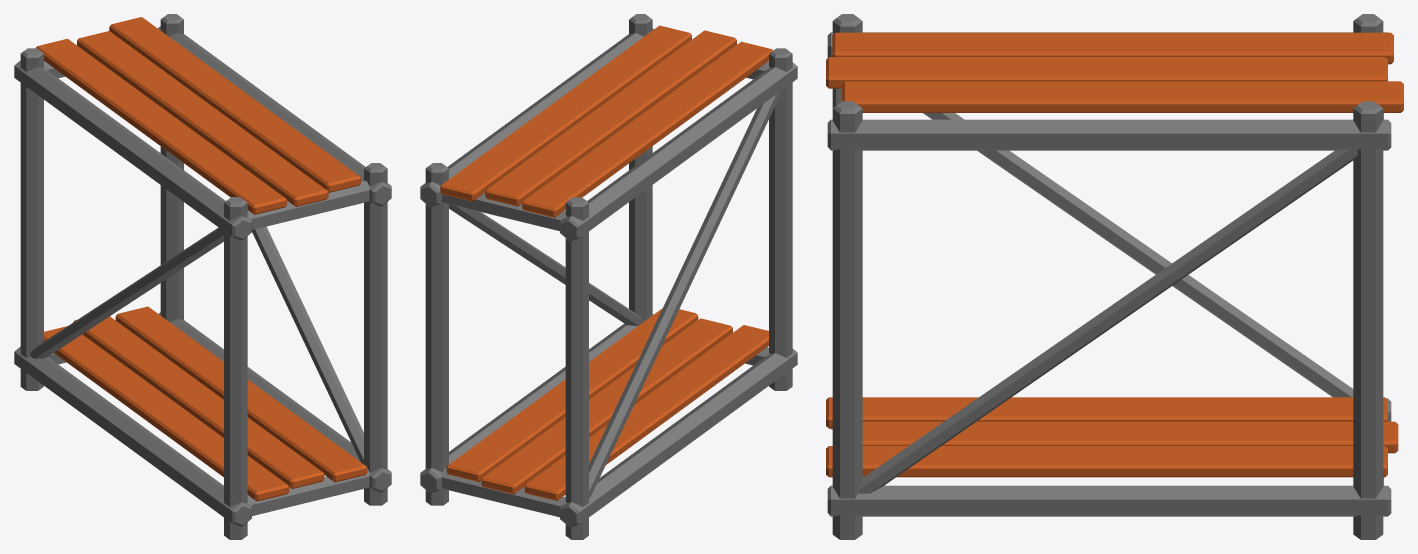
File: scaffolding.glb
The picture shows the model from 3 angles, left to right: view 1: azimuth 30°, elevation 25°; view 2: azimuth 150°, elevation 25°; view 3: azimuth 270°, elevation 25°; orthographic projection. The views are drawn at different scales.
Visible parts, largest first — view 1: Scaffolding_A; view 2: Scaffolding_A; view 3: Scaffolding_A.
Boxes of the visible parts, <box> form: Scaffolding_A: <box>14,14,391,539</box>; Scaffolding_A: <box>420,14,797,539</box>; Scaffolding_A: <box>826,14,1403,539</box>.
Bounding box in the file's own units: 2 × 4 × 4.88.
